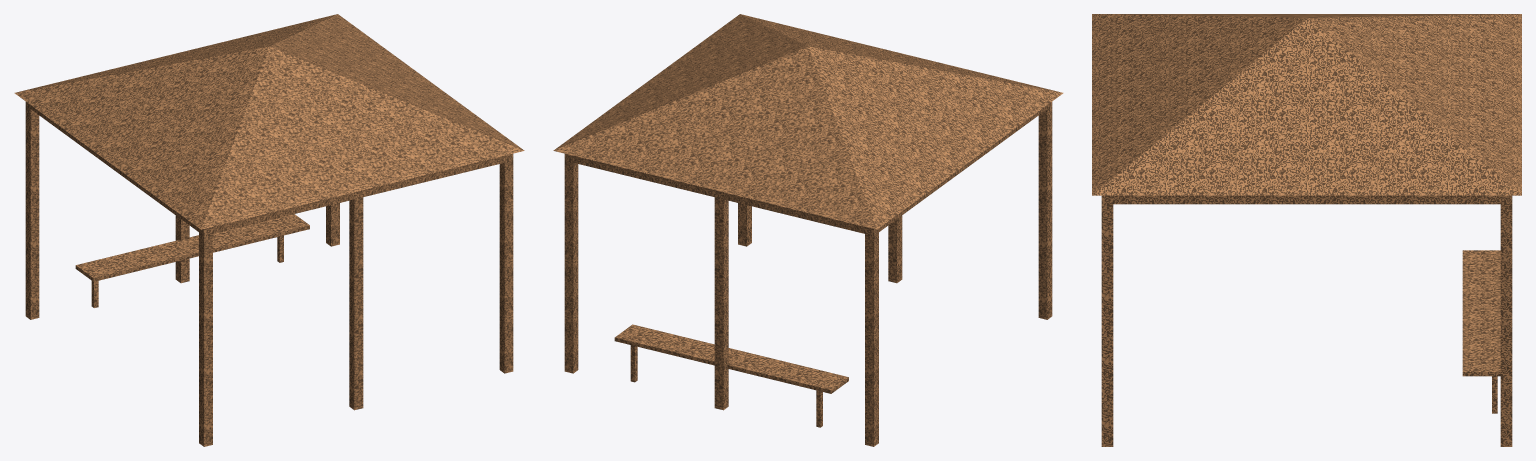
The picture shows the model from 3 angles, left to right: view 1: azimuth 30°, elevation 25°; view 2: azimuth 150°, elevation 25°; view 3: azimuth 270°, elevation 25°; orthographic projection. The views are drawn at different scales.
Visible parts, largest first — view 1: backWall=false;depth=3.5;frameMaterial=timber;height=2.4;pos; view 2: backWall=false;depth=3.5;frameMaterial=timber;height=2.4;pos; view 3: backWall=false;depth=3.5;frameMaterial=timber;height=2.4;pos.
Part boxes in pixels (box(x1,y1,x2,y2)): backWall=false;depth=3.5;frameMaterial=timber;height=2.4;pos: box(14, 14, 524, 446); backWall=false;depth=3.5;frameMaterial=timber;height=2.4;pos: box(553, 14, 1063, 446); backWall=false;depth=3.5;frameMaterial=timber;height=2.4;pos: box(1092, 14, 1521, 446).
Size of the model in its own units: 3.66 by 3.66 by 3.22.
1 material, 1 textured.
